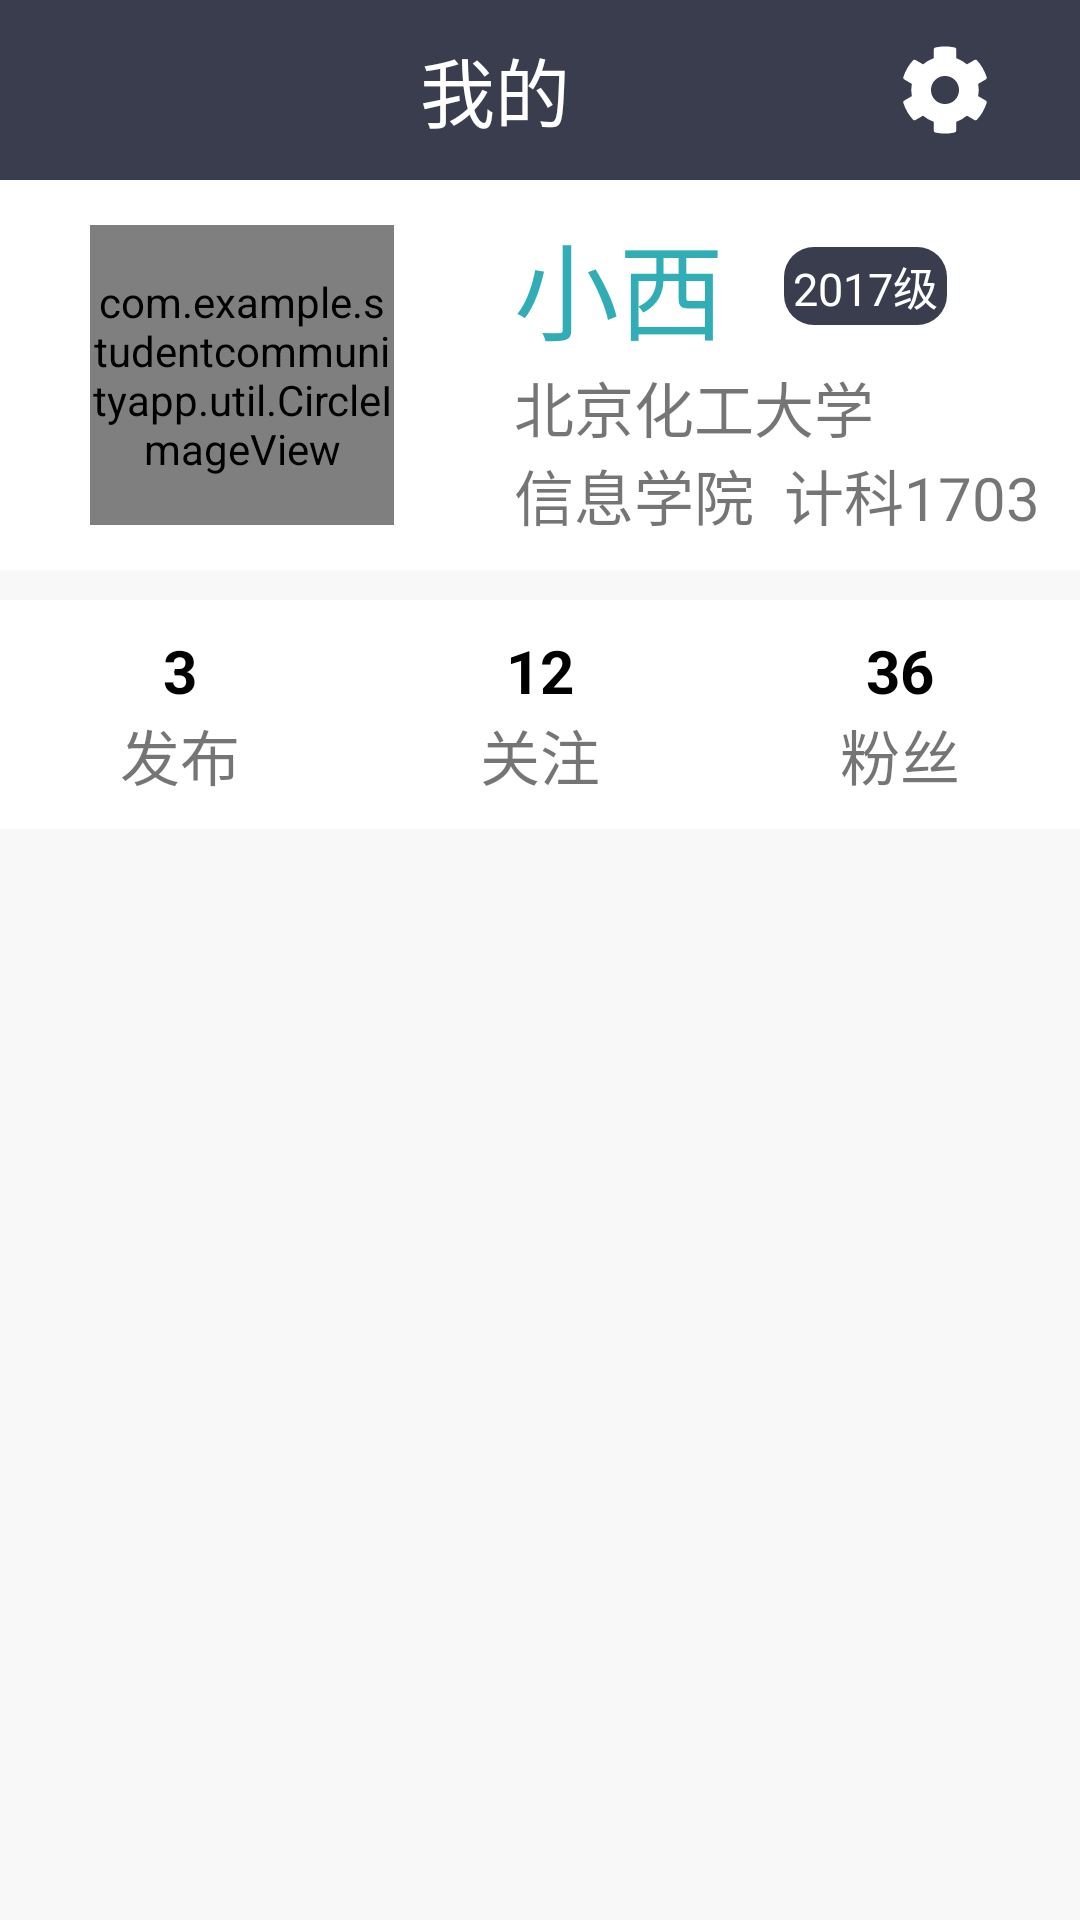

Where icons sit on this 1080 × 1920 app screen, as (x1, y1, x2, y2):
settings: (903, 46, 987, 134)
